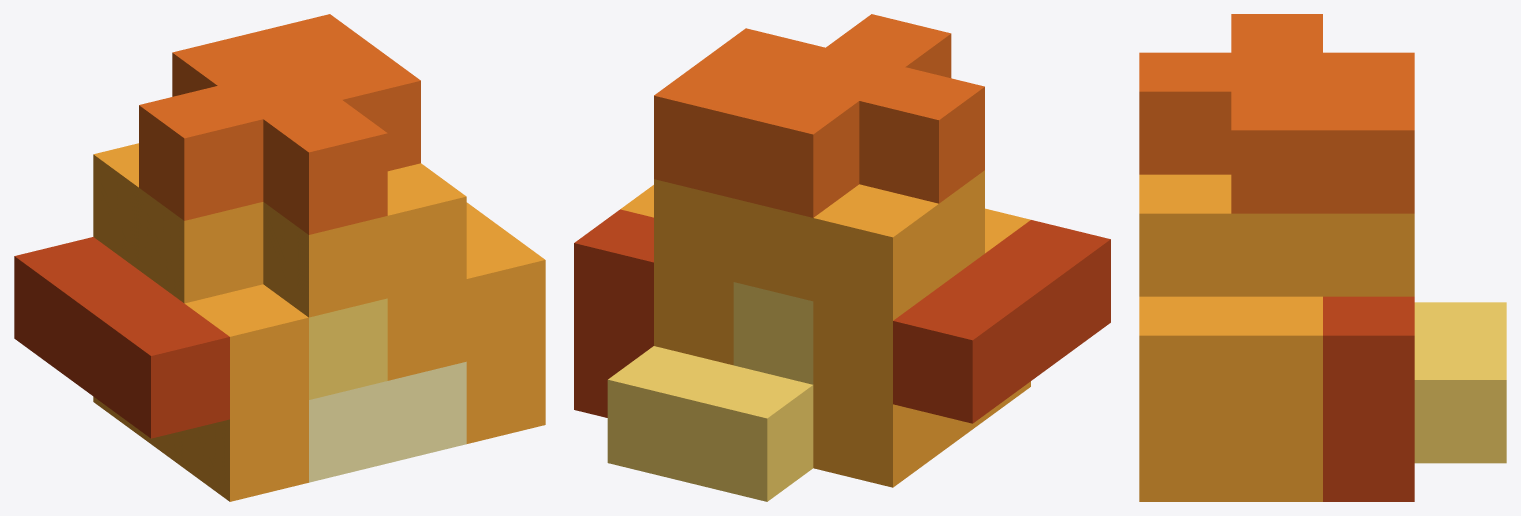
Rendered from wall_torch_flame.glb.
3 views of the same model, side by side, from view 1: azimuth 30°, elevation 25°; view 2: azimuth 150°, elevation 25°; view 3: azimuth 270°, elevation 25° (orthographic).
Parts seen in each view (by area): view 1: flame_00, flame_02, flame_01, flame_04, flame_03, flame_07, flame_06; view 2: flame_00, flame_02, flame_03, flame_06, flame_04, flame_07, flame_01; view 3: flame_00, flame_01, flame_07, flame_06, flame_03.
Part boxes in pixels (x1,y1,x2,y2): flame_00: [60, 33, 545, 501]; flame_02: [14, 143, 263, 371]; flame_01: [297, 47, 466, 298]; flame_04: [105, 303, 229, 438]; flame_03: [139, 86, 263, 220]; flame_07: [263, 100, 387, 234]; flame_06: [251, 14, 374, 66]; flame_00: [574, 47, 1064, 501]; flame_02: [813, 170, 1018, 423]; flame_03: [859, 67, 984, 203]; flame_06: [654, 62, 778, 198]; flame_04: [985, 220, 1110, 355]; flame_07: [826, 14, 951, 77]; flame_01: [700, 28, 824, 81]; flame_00: [1139, 52, 1506, 501]; flame_01: [1139, 91, 1322, 296]; flame_07: [1139, 52, 1231, 174]; flame_06: [1323, 91, 1414, 213]; flame_03: [1231, 14, 1322, 52].
Size of the model in its own units: 0.625 by 0.5 by 0.5.
